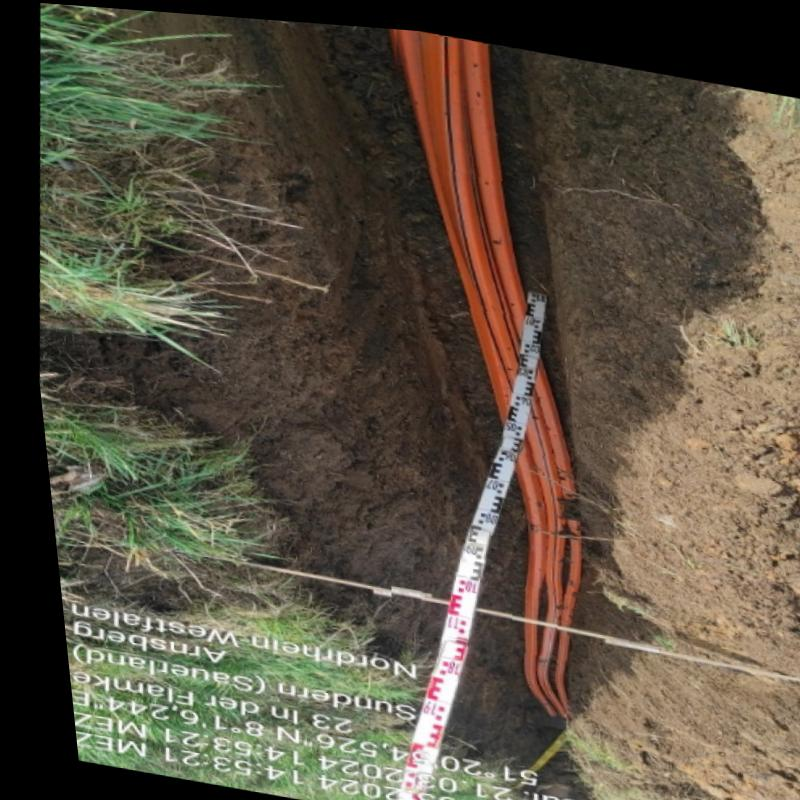Orang-Speednetrohrchen: (396, 23, 569, 652)
